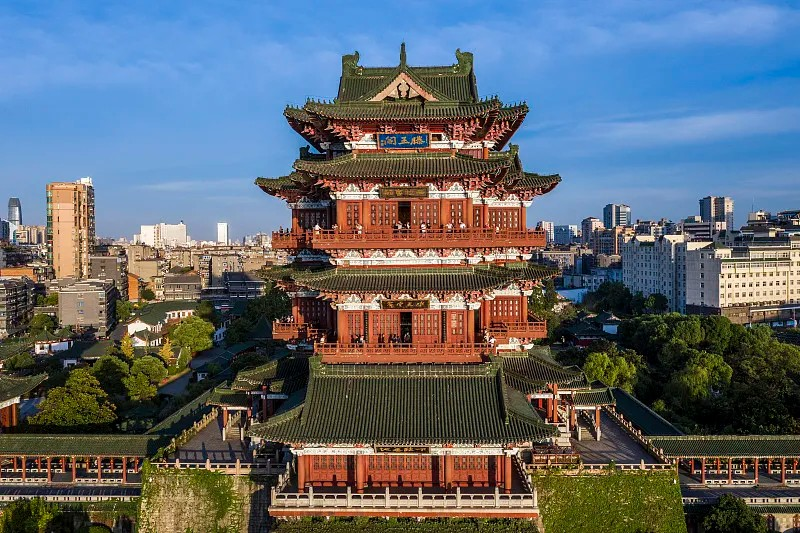Teng: (206, 42, 613, 502)
